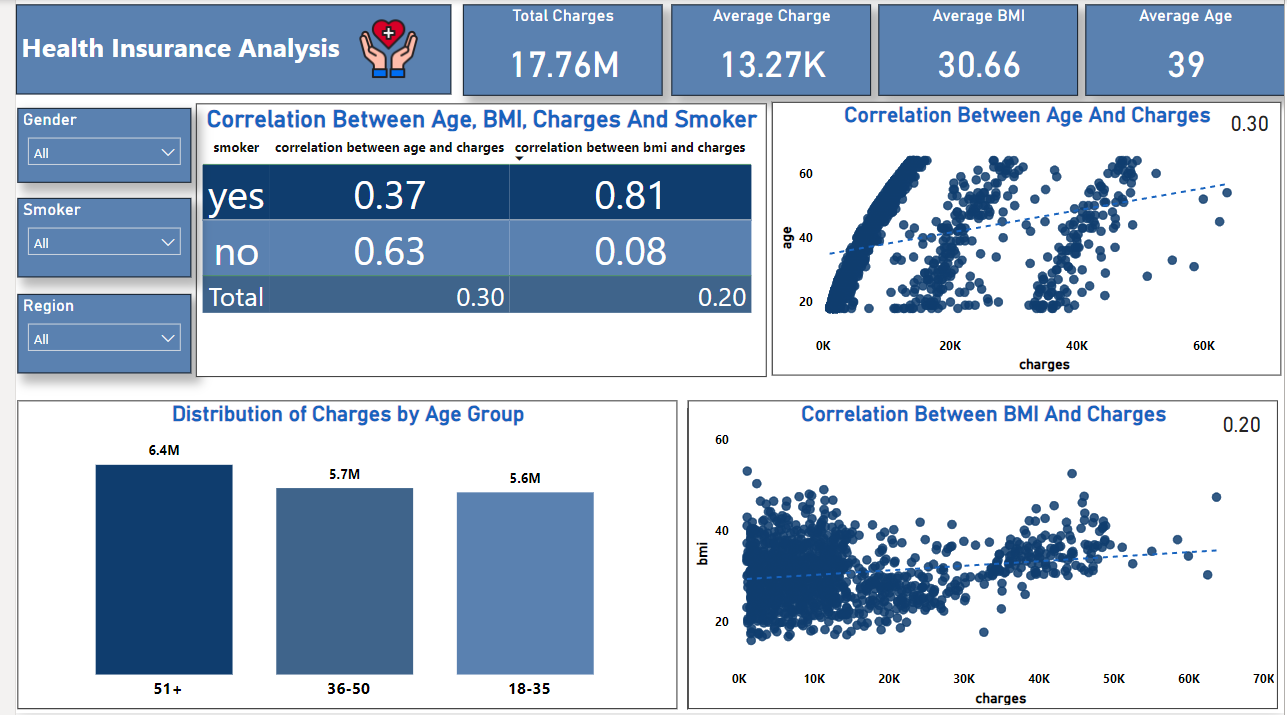

What the dashboard file says about the page in this screenshot:
{"tool":"powerbi","page":{"name":"Page 2","canvas":[1280,720],"ordinal":1},"visuals":[{"type":"group","id":"g1","title":"Group 1","box":[0,4.6,439.1,90.6],"z":0},{"type":"textbox","box":[0,4.6,439.1,90.6],"z":0,"group":"g4"},{"type":"scatterChart","title":"Correlation Between Age And Charges","fields":{"X":["insurance (2).charges"],"Y":["insurance (2).age"]},"box":[763,103.3,514.3,276.3],"z":1000,"group":"g2"},{"type":"slicer","title":"Region","fields":{"Values":["insurance (2).region"]},"box":[1.5,296.3,175,79.8],"z":1000},{"type":"scatterChart","title":"Correlation Between BMI And Charges","fields":{"X":["insurance (2).charges"],"Y":["insurance (2).bmi"]},"box":[678.6,403.8,595.7,311.6],"z":1000,"group":"g5"},{"type":"card","title":"Total Charges","fields":{"Values":["Sum(insurance (2).charges)"]},"box":[451.3,4.6,201.1,92.1],"z":2000},{"type":"image","box":[333.1,12.9,86,73.7],"z":2000,"group":"g4"},{"type":"card","title":"Average Charge","fields":{"Values":["Avg(insurance (2).charges)"]},"box":[661.7,4.6,201.1,92.1],"z":3000},{"type":"card","fields":{"Values":["insurance (2).corr_age & charges"]},"box":[1215.9,107.4,58.3,32.2],"z":3000,"group":"g2"},{"type":"card","title":"Average BMI","fields":{"Values":["Avg(insurance (2).bmi)"]},"box":[870.4,4.6,201.1,92.1],"z":4000},{"type":"card","fields":{"Values":["insurance (2).corr_bmi & charges"]},"box":[1200.6,409.9,72.2,35.3],"z":4000,"group":"g5"},{"type":"card","title":"Average Age","fields":{"Values":["Avg(insurance (2).age)"]},"box":[1078.9,4.6,201.1,92.1],"z":5000},{"type":"clusteredColumnChart","title":"Distribution of Charges by Age Group","fields":{"Category":["insurance (2).Age Group"],"Y":["Sum(insurance (2).charges)"]},"box":[1.5,403.8,666.3,311.6],"z":6000},{"type":"tableEx","title":"Correlation Between Age, BMI, Charges And Smoker","fields":{"Values":["insurance (2).smoker","insurance (2).corr_age & charges","insurance (2).corrbmi"]},"box":[181.2,104.4,575.7,276.3],"z":7000},{"type":"group","id":"g2","title":"Group 3","box":[763,103.3,514.3,276.3],"z":8000},{"type":"group","id":"g3","title":"Group 4","box":[678.6,403.8,595.7,311.6],"z":9000},{"type":"group","id":"g4","title":"Group 2","box":[0,4.6,439.1,90.6],"z":9001,"group":"g1"},{"type":"slicer","title":"Gender","fields":{"Values":["insurance (2).sex"]},"box":[1.5,109,175,75.2],"z":10000},{"type":"slicer","title":"Smoker","fields":{"Values":["insurance (2).smoker"]},"box":[1.5,199.6,175,79.8],"z":11000},{"type":"group","id":"g5","title":"Group 5","box":[678.6,403.8,595.7,311.6],"z":11001,"group":"g3"}]}

Visuals, with their boxes in screenshot pixels (x1, y1, x2, y2), scaled from the page's 1280x720 canvas onto the 1287x715 screenshot:
"Group 1" group: 0:5:442:95
textbox: 0:5:442:95
"Correlation Between Age And Charges" scatterChart: 767:103:1284:377
"Region" slicer: 2:294:177:373
"Correlation Between BMI And Charges" scatterChart: 682:401:1281:710
"Total Charges" card: 454:5:656:96
image: 335:13:421:86
"Average Charge" card: 665:5:868:96
card - insurance (2).corr_age & charges: 1223:107:1281:139
"Average BMI" card: 875:5:1077:96
card - insurance (2).corr_bmi & charges: 1207:407:1280:442
"Average Age" card: 1085:5:1286:96
"Distribution of Charges by Age Group" clusteredColumnChart: 2:401:671:710
"Correlation Between Age, BMI, Charges And Smoker" tableEx: 182:104:761:378
"Group 3" group: 767:103:1284:377
"Group 4" group: 682:401:1281:710
"Group 2" group: 0:5:442:95
"Gender" slicer: 2:108:177:183
"Smoker" slicer: 2:198:177:277
"Group 5" group: 682:401:1281:710
